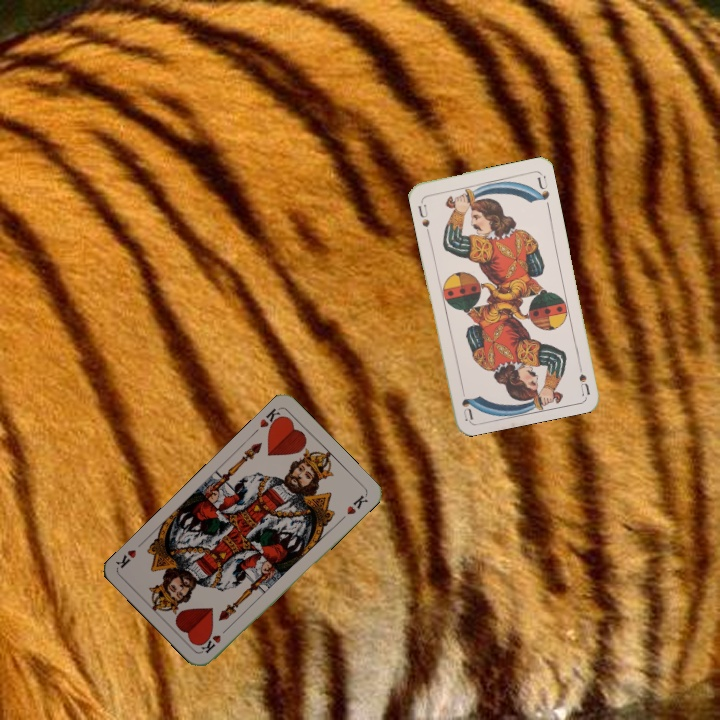HK: (197, 623, 232, 656), (255, 404, 287, 434)
SU: (574, 356, 592, 397), (414, 200, 432, 230)
